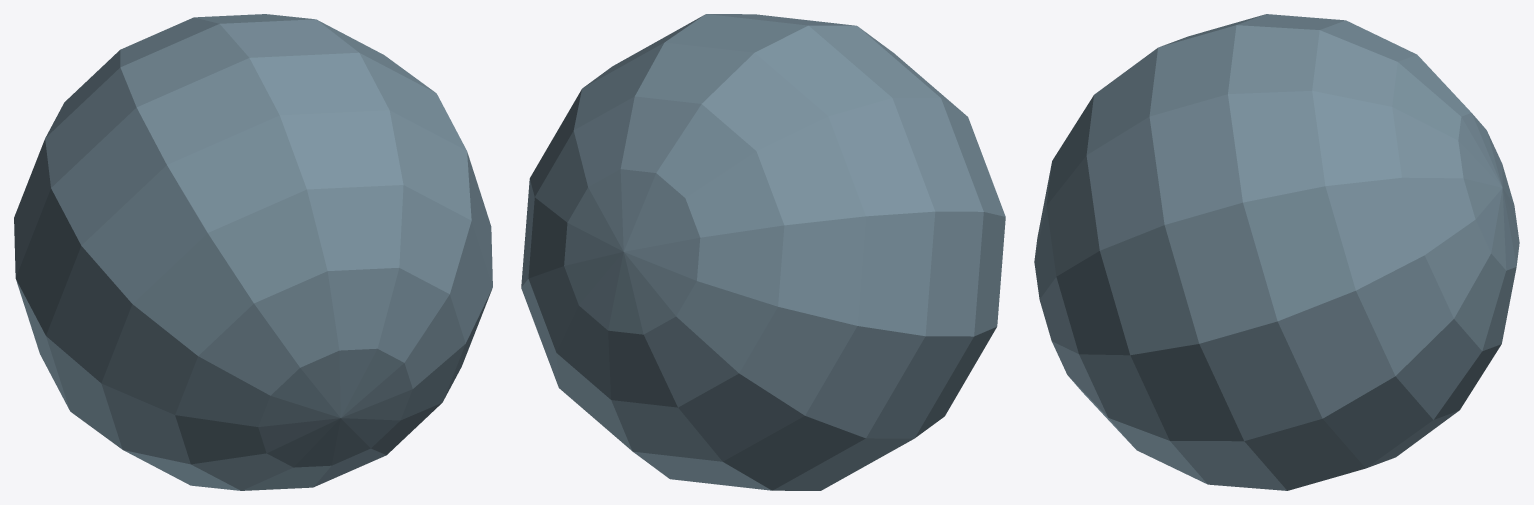
The model's file is astronaut_spawn_group11481041_lev4.glb.
The picture shows the model from 3 angles, left to right: view 1: azimuth 30°, elevation 25°; view 2: azimuth 150°, elevation 25°; view 3: azimuth 270°, elevation 25°; orthographic projection.
Visible parts, largest first — view 1: astronaut_spawn_group11481041_lev4; view 2: astronaut_spawn_group11481041_lev4; view 3: astronaut_spawn_group11481041_lev4.
Part boxes in pixels (left/top/right/bottom): astronaut_spawn_group11481041_lev4: left=14, top=14, right=492, bottom=490; astronaut_spawn_group11481041_lev4: left=521, top=14, right=1005, bottom=490; astronaut_spawn_group11481041_lev4: left=1034, top=14, right=1519, bottom=490.
Bounding box in the file's own units: 0.0327 × 0.0325 × 0.033.
